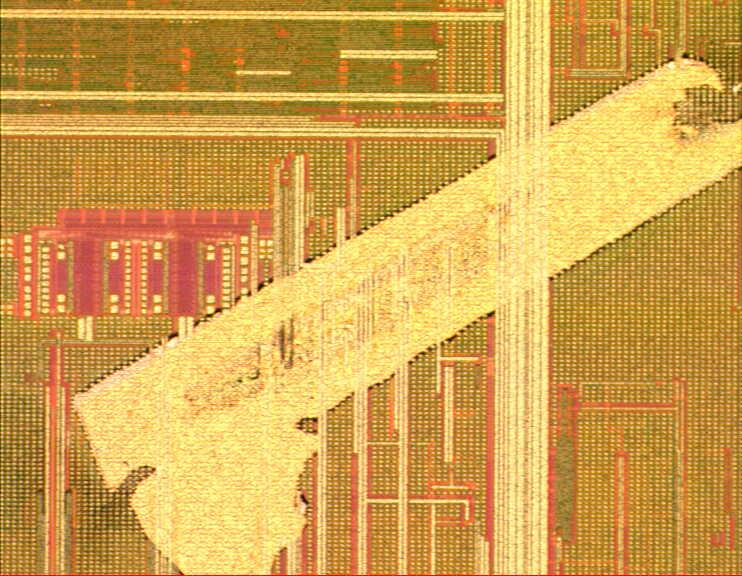BLOCK ETCH: (70, 51, 742, 576)
